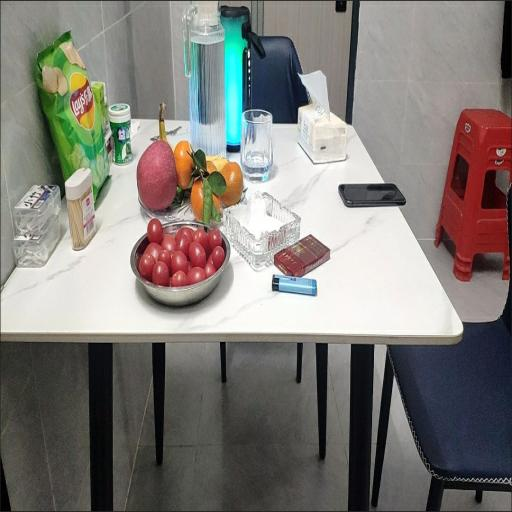bus: (372, 282, 511, 510), (251, 37, 308, 123)
people: (339, 183, 405, 207)
stroller: (0, 120, 462, 509)
